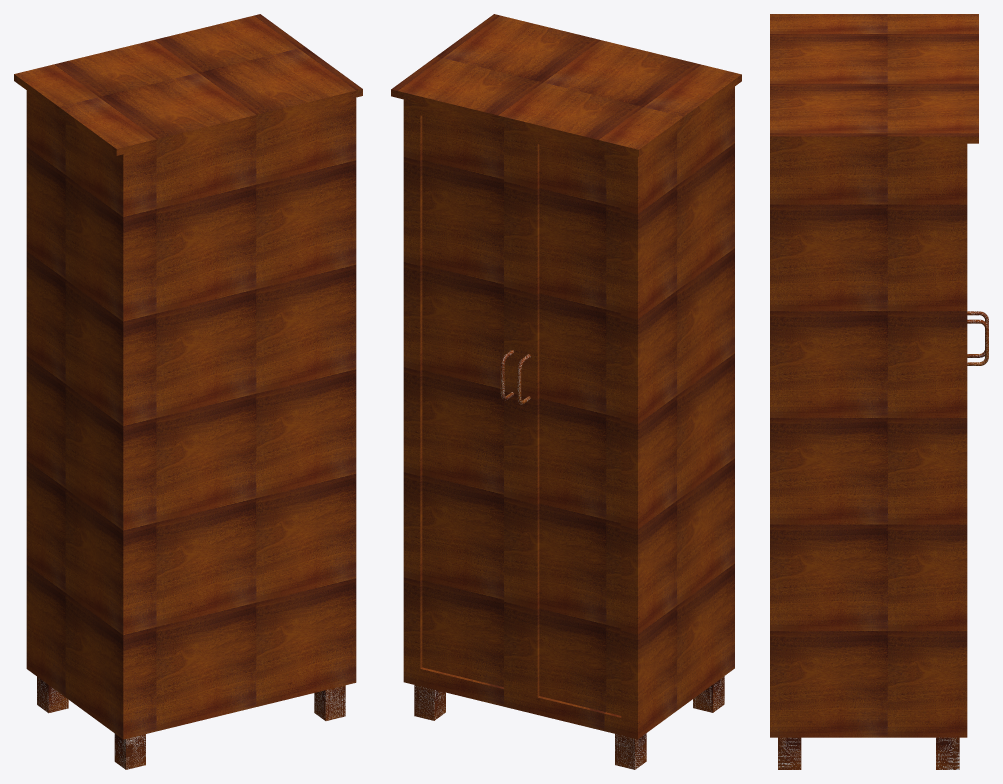
3 renders of one model, left to right at view 1: azimuth 30°, elevation 25°; view 2: azimuth 150°, elevation 25°; view 3: azimuth 270°, elevation 25°, orthographic. The views are drawn at different scales.
Parts seen in each view (by area): view 1: mesh5_mesh5-geometry, mesh10_mesh10-geometry, mesh9_mesh9-geometry; view 2: mesh5_mesh5-geometry, mesh9_mesh9-geometry, mesh10_mesh10-geometry; view 3: mesh5_mesh5-geometry, mesh9_mesh9-geometry, mesh10_mesh10-geometry.
Boxes of the visible parts, bbox=[...] form: mesh5_mesh5-geometry: bbox=[14, 14, 362, 739]; mesh10_mesh10-geometry: bbox=[37, 677, 345, 720]; mesh9_mesh9-geometry: bbox=[114, 733, 145, 769]; mesh5_mesh5-geometry: bbox=[391, 14, 741, 739]; mesh9_mesh9-geometry: bbox=[414, 676, 724, 720]; mesh10_mesh10-geometry: bbox=[615, 733, 646, 769]; mesh5_mesh5-geometry: bbox=[770, 14, 978, 737]; mesh9_mesh9-geometry: bbox=[936, 737, 959, 769]; mesh10_mesh10-geometry: bbox=[778, 737, 801, 769].
Size of the model in its own units: 0.3655 by 0.8891 by 0.2756.
